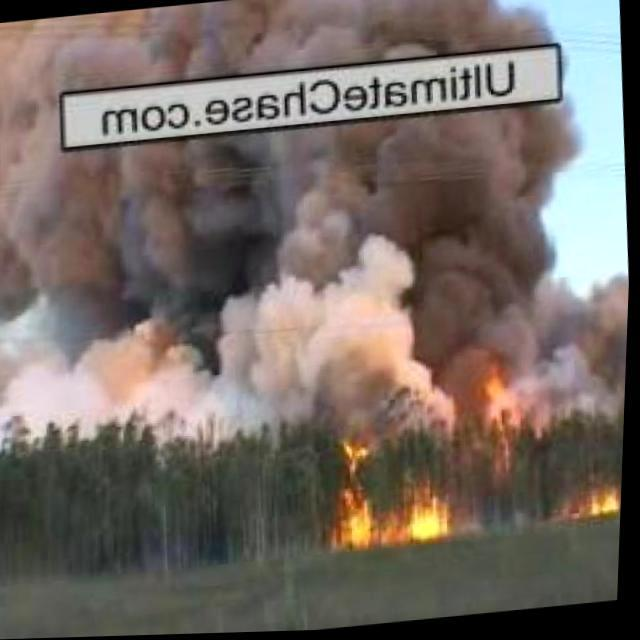fire: (332, 430, 456, 556), (470, 335, 524, 445), (586, 489, 626, 525)
